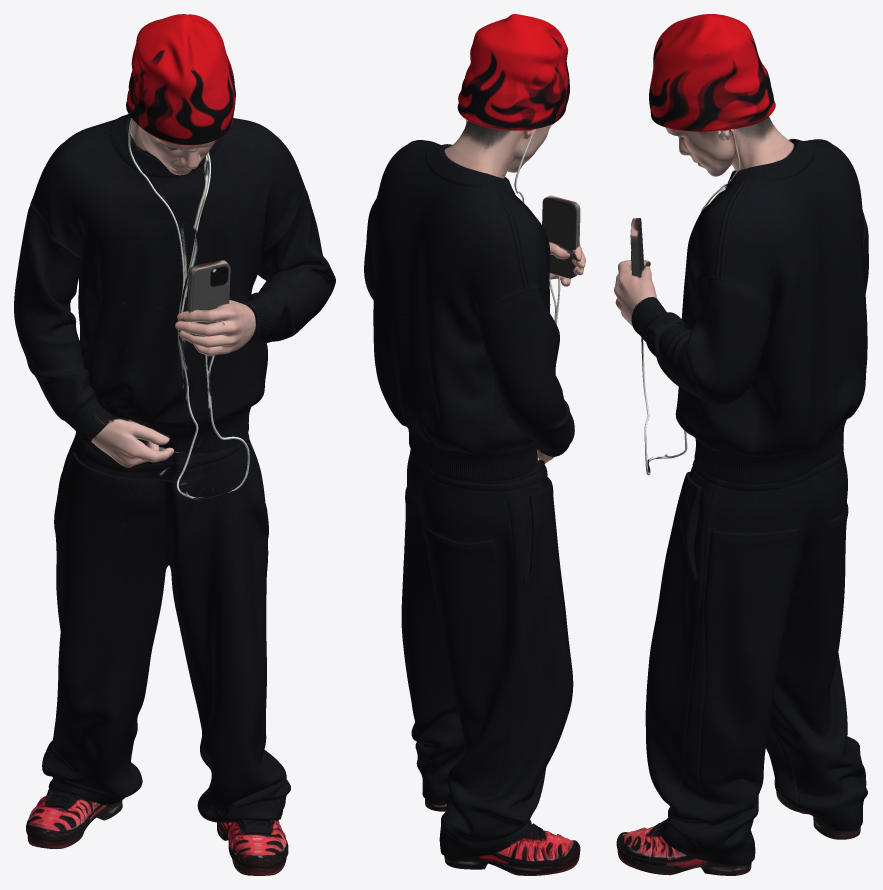
Rendered from mauro-avatar.glb.
The picture shows the model from 3 angles, left to right: view 1: azimuth 30°, elevation 25°; view 2: azimuth 150°, elevation 25°; view 3: azimuth 270°, elevation 25°; orthographic projection. The views are drawn at different scales.
Bounding box in the file's own units: 0.6076 × 1.9 × 0.5333.
Materials: 1 (1 with a texture image).
